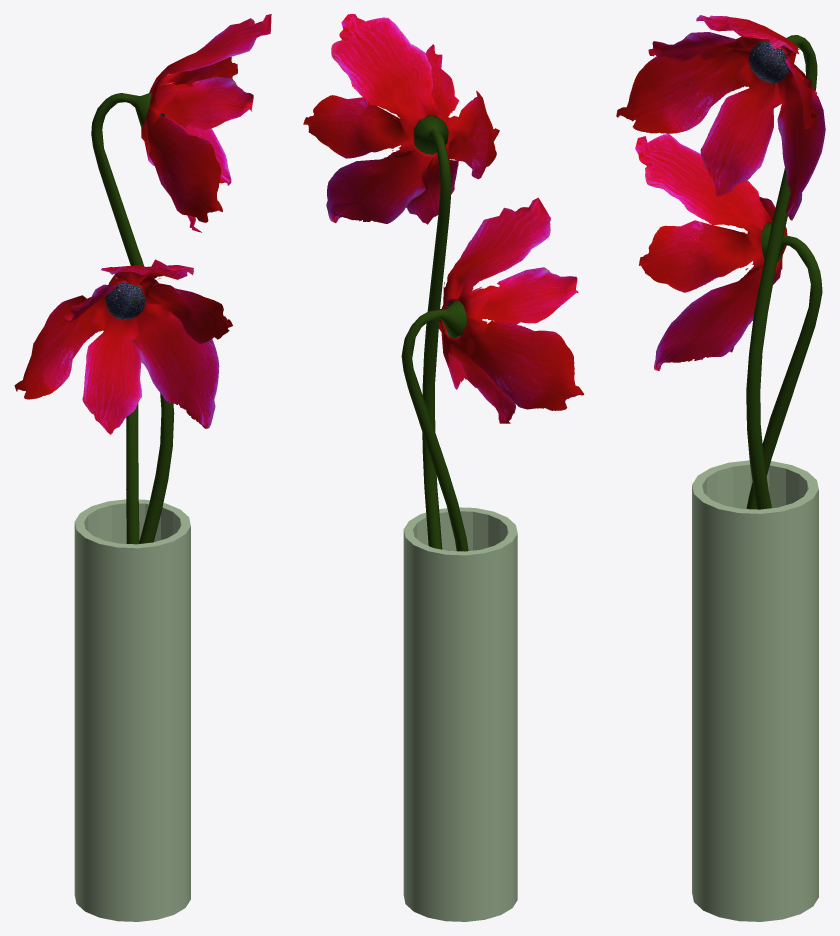
Rendered from Flowers.FBX.
3 renders of one model, left to right at view 1: azimuth 30°, elevation 25°; view 2: azimuth 150°, elevation 25°; view 3: azimuth 270°, elevation 25°, orthographic. The views are drawn at different scales.
Parts seen in each view (by area): view 1: Flowers; view 2: Flowers; view 3: Flowers.
Boxes of the visible parts, box(x1,y1,x2,y2) form: Flowers: box(14, 14, 271, 921); Flowers: box(303, 14, 584, 921); Flowers: box(616, 15, 825, 921).
Size of the model in its own units: 127 by 82.92 by 409.
Materials: 2 (1 with a texture image).
